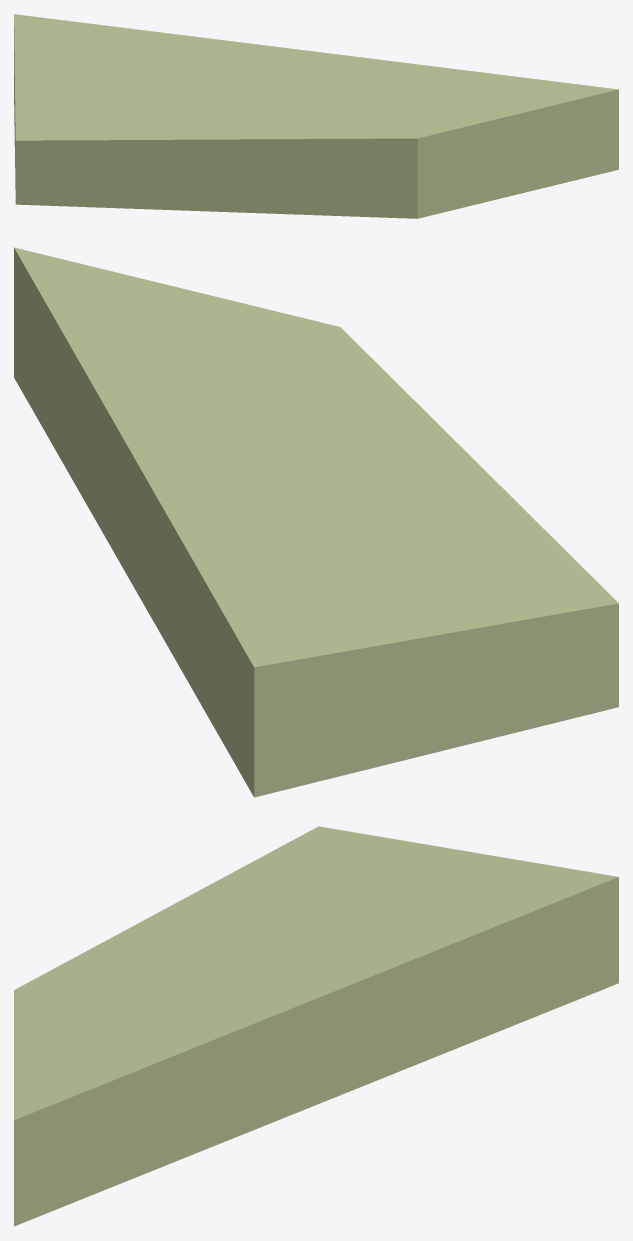
The model's file is ground_1.gltf.
The picture shows the model from 3 angles, top to bottom: view 1: azimuth 30°, elevation 25°; view 2: azimuth 150°, elevation 25°; view 3: azimuth 270°, elevation 25°; orthographic projection. The views are drawn at different scales.
Visible parts, largest first — view 1: o_ground_1; view 2: o_ground_1; view 3: o_ground_1.
Part boxes in pixels (x1,y1,x2,y2): o_ground_1: (14,14,618,218); o_ground_1: (14,247,618,797); o_ground_1: (14,826,618,1226).
Size of the model in its own units: 15.52 by 2.44 by 12.57.
